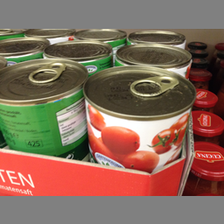tomato_sauce: (84, 65, 197, 175), (1, 59, 86, 162)
